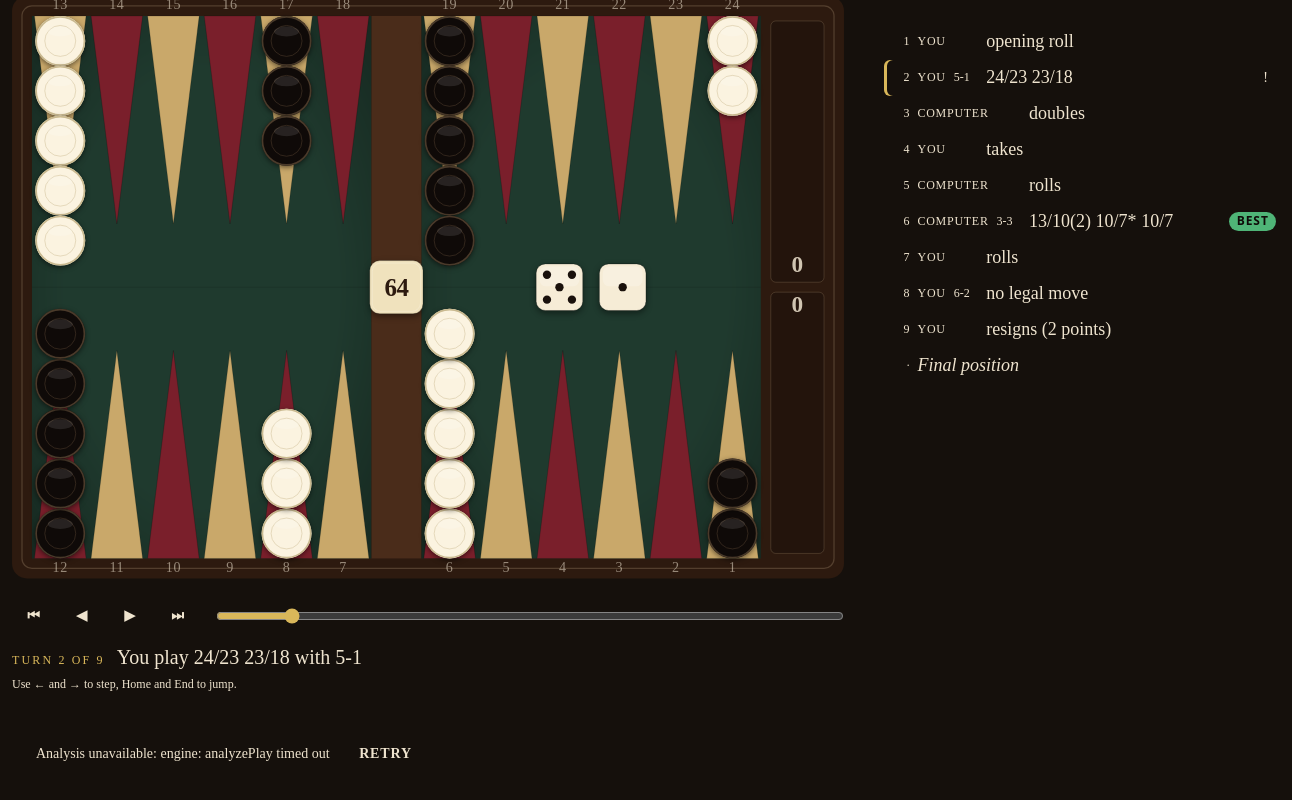
it: <ReviewPlayer> › shows a failed analysis with a Retry control and does not retry by itself
(page scrolled)
Expected: the text "Analysis unavailable: engine: analyzePlay timed out" is shown, [36,746,330,762]
What coordinates should you click on to do the following:
click the button "Retry"
I would click on:
 (385, 754)
Its box is [342,732,429,776].
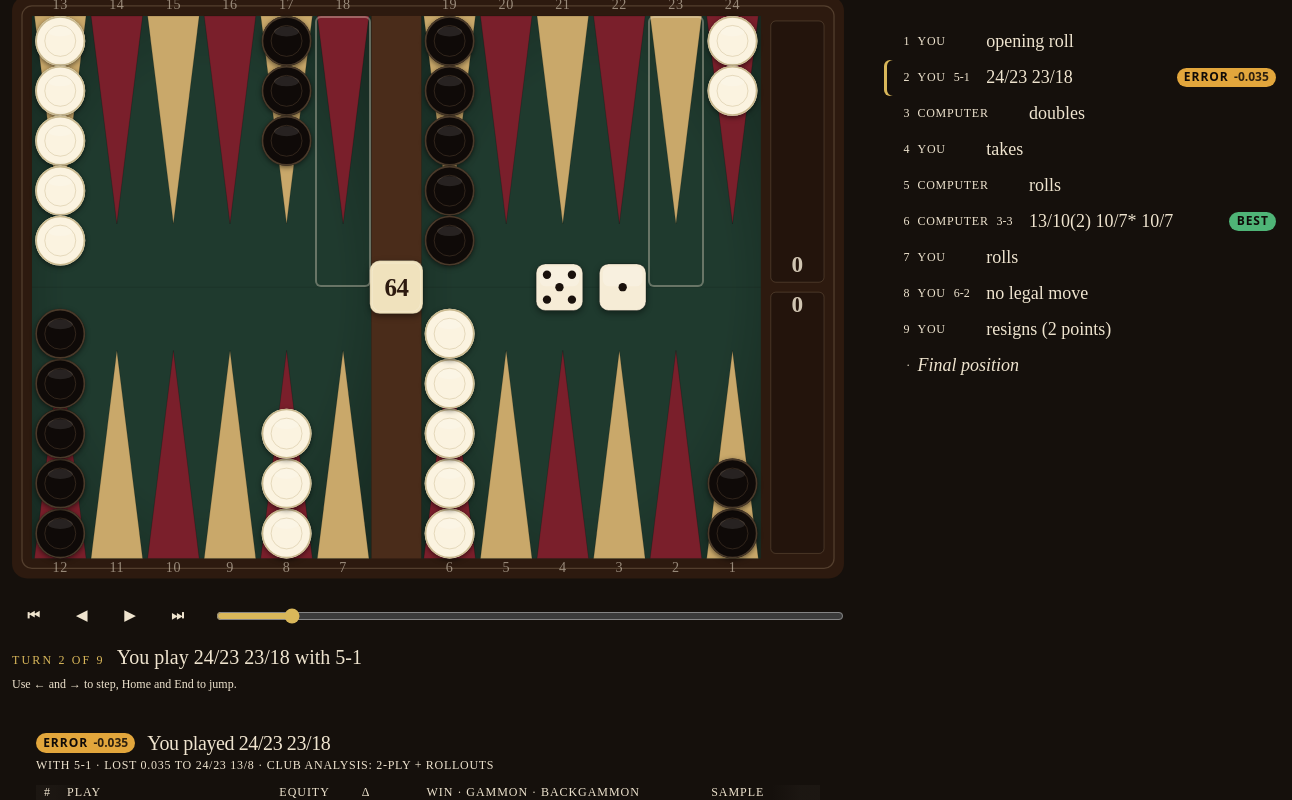
Result: the text "Error" is shown 2 times at [1184,71,1229,85]; [43,736,88,750]
